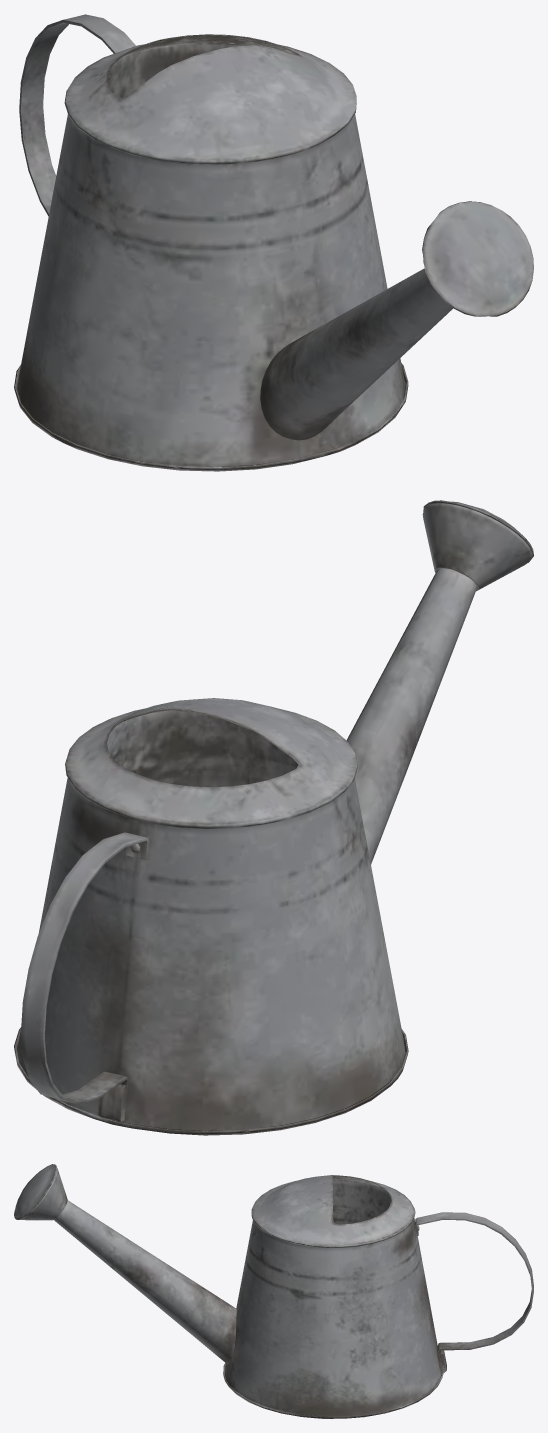
File: watering_can_metal_01.glb
3 renders of one model, top to bottom at view 1: azimuth 30°, elevation 25°; view 2: azimuth 150°, elevation 25°; view 3: azimuth 270°, elevation 25°, orthographic. The views are drawn at different scales.
Parts seen in each view (by area): view 1: watering_can_metal_01; view 2: watering_can_metal_01; view 3: watering_can_metal_01.
Part boxes in pixels (left/top/right/bottom): watering_can_metal_01: left=14, top=14, right=533, bottom=471; watering_can_metal_01: left=14, top=500, right=533, bottom=1135; watering_can_metal_01: left=14, top=1164, right=533, bottom=1418.
Bounding box in the file's own units: 0.191 × 0.1965 × 0.4521.
1 material, 1 textured.
